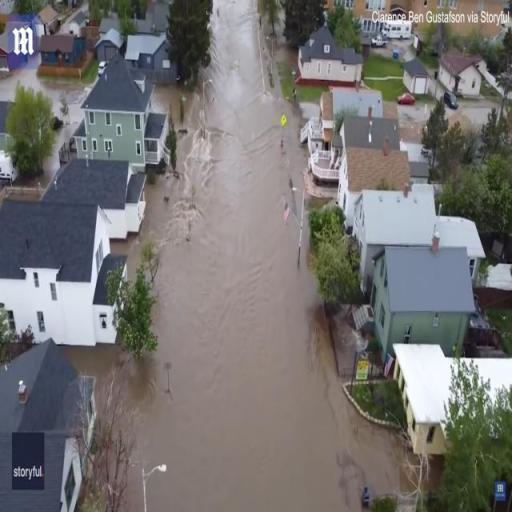flood: (66, 0, 406, 512), (0, 56, 98, 150)
house: (0, 196, 123, 342), (389, 339, 512, 443), (370, 246, 476, 348), (0, 338, 96, 438), (77, 57, 167, 158), (50, 156, 148, 233), (354, 185, 442, 245), (300, 32, 364, 86), (341, 146, 414, 192), (334, 114, 404, 152), (320, 86, 388, 122), (439, 50, 484, 95), (38, 33, 85, 69), (151, 38, 176, 81), (400, 58, 428, 94), (95, 28, 123, 58), (36, 4, 60, 31), (69, 10, 86, 35)
